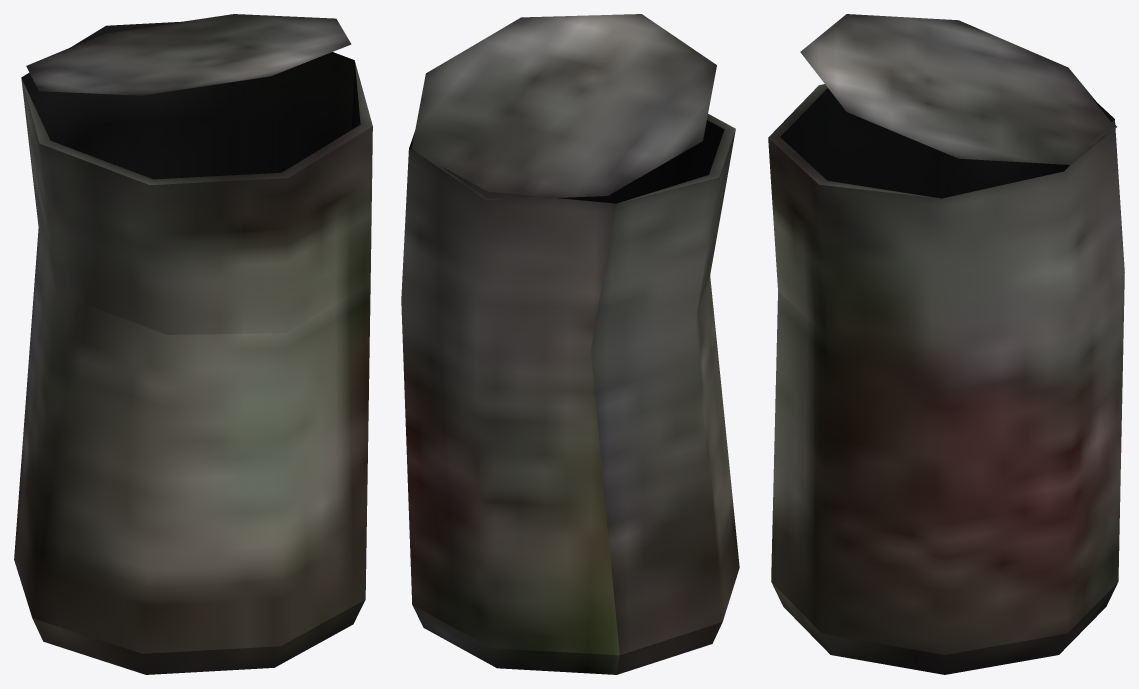
The model's file is garbage_metalcan001a.glb.
The picture shows the model from 3 angles, left to right: view 1: azimuth 30°, elevation 25°; view 2: azimuth 150°, elevation 25°; view 3: azimuth 270°, elevation 25°; orthographic projection. The views are drawn at different scales.
Visible parts, largest first — view 1: 0_garbage001a_01; view 2: 0_garbage001a_01; view 3: 0_garbage001a_01.
Part boxes in pixels (box(x1,y1,x2,y2)): 0_garbage001a_01: box(14, 14, 372, 674); 0_garbage001a_01: box(401, 14, 739, 674); 0_garbage001a_01: box(768, 14, 1124, 674).
Bounding box in the file's own units: 0.108 × 0.186 × 0.108.
1 material, 1 textured.
